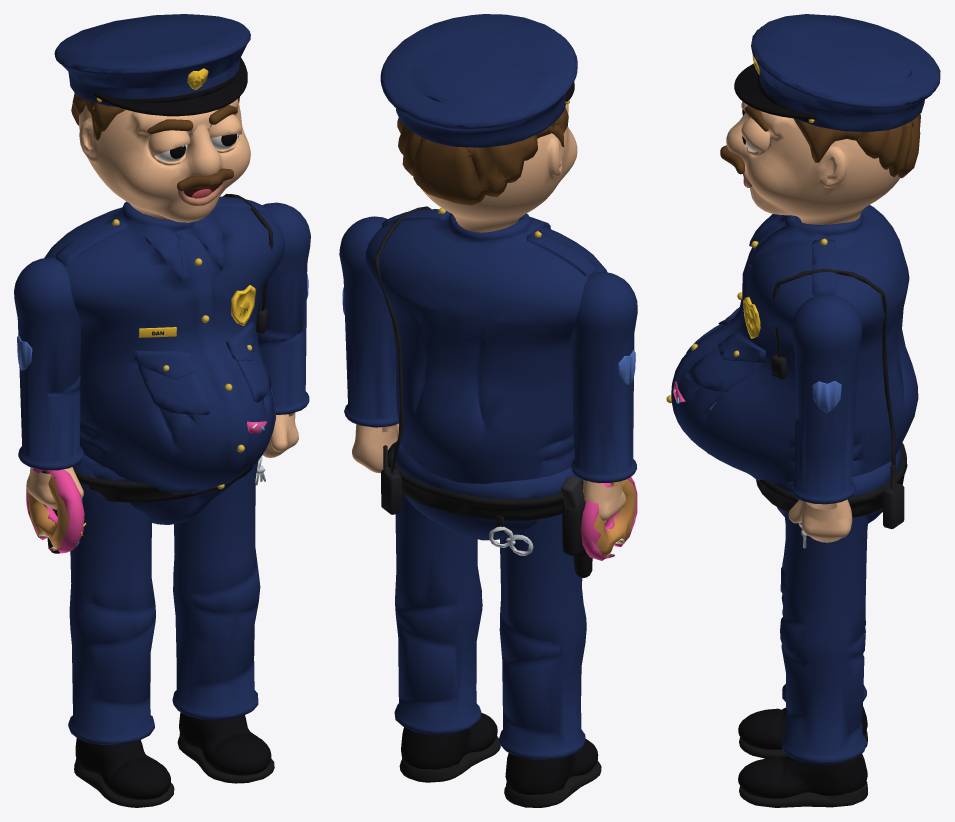
File: cop_dan.glb
3 renders of one model, left to right at view 1: azimuth 30°, elevation 25°; view 2: azimuth 150°, elevation 25°; view 3: azimuth 270°, elevation 25°, orthographic.
Parts seen in each view (by area): view 1: Body_Mesh, Head_Mesh, LegR_Mesh, LegL_Mesh, ArmR_Mesh, ArmL_Mesh, Donut, Mouth; view 2: Body_Mesh, Head_Mesh, LegR_Mesh, LegL_Mesh, ArmR_Mesh, ArmL_Mesh, Donut; view 3: Body_Mesh, Head_Mesh, LegL_Mesh, ArmL_Mesh, LegR_Mesh.
Boxes of the visible parts, x1,y1,x2,y2 form: Body_Mesh: (40, 193, 285, 553); Head_Mesh: (54, 14, 250, 222); LegR_Mesh: (68, 460, 174, 807); LegL_Mesh: (172, 414, 274, 783); ArmR_Mesh: (14, 258, 83, 509); ArmL_Mesh: (257, 202, 310, 457); Donut: (26, 468, 86, 553); Mouth: (178, 180, 227, 205); Body_Mesh: (365, 206, 607, 577); Head_Mesh: (380, 14, 577, 232); LegR_Mesh: (499, 476, 601, 807); LegL_Mesh: (394, 493, 500, 782); ArmR_Mesh: (571, 272, 637, 521); ArmL_Mesh: (339, 216, 399, 473); Donut: (580, 477, 637, 560); Body_Mesh: (666, 205, 918, 548); Head_Mesh: (720, 14, 940, 224); LegL_Mesh: (738, 460, 868, 807); ArmL_Mesh: (788, 294, 862, 542); LegR_Mesh: (738, 541, 867, 758).
Size of the model in its own units: 0.8461 by 2.06 by 0.7017.
